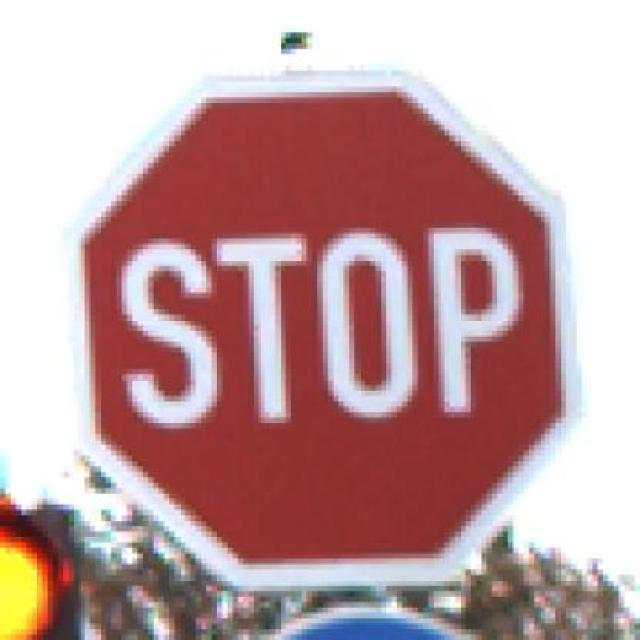Stop_Sign: (58, 60, 598, 602)
